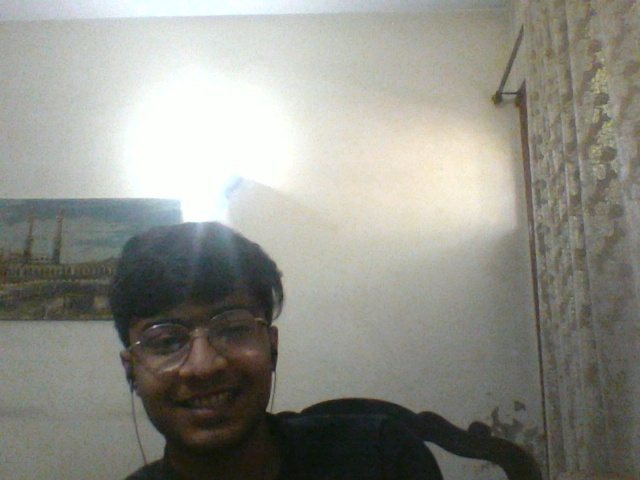happy: (148, 292, 268, 442)
